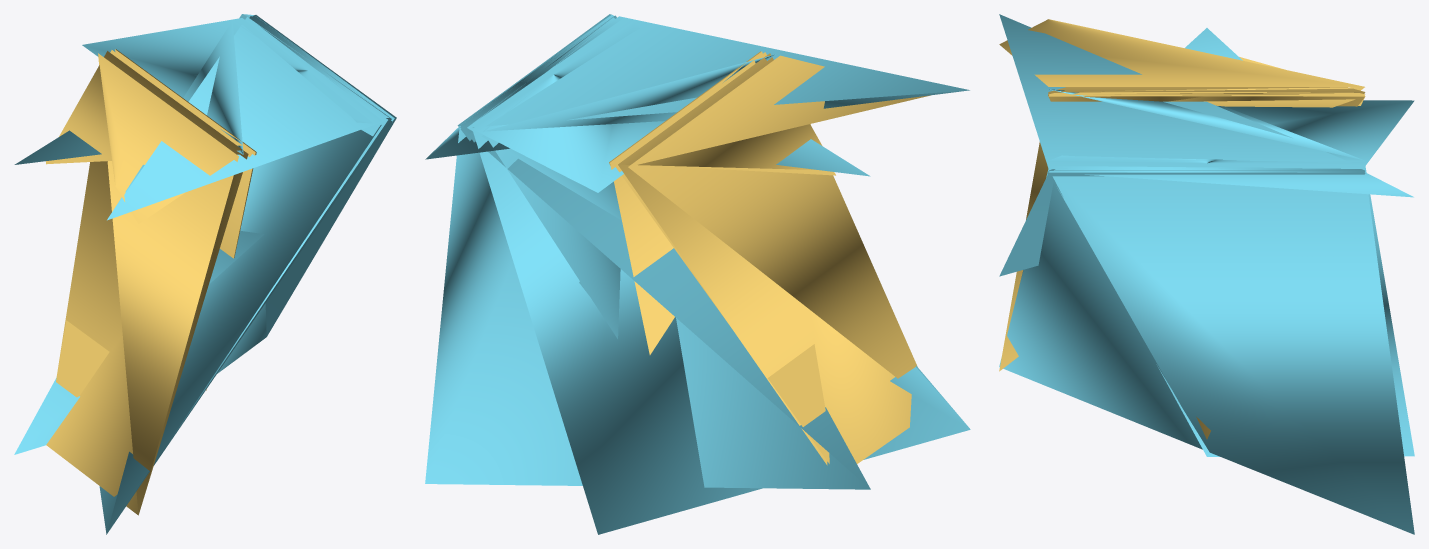
File: gear_strength.glb
The picture shows the model from 3 angles, left to right: view 1: azimuth 30°, elevation 25°; view 2: azimuth 150°, elevation 25°; view 3: azimuth 270°, elevation 25°; orthographic projection. The views are drawn at different scales.
Visible parts, largest first — view 1: SpurGearWheel, SpurGearPinion; view 2: SpurGearWheel, SpurGearPinion; view 3: SpurGearWheel, SpurGearPinion.
Boxes of the visible parts, x1,y1,x2,y2 form: SpurGearWheel: (14, 14, 396, 534); SpurGearPinion: (46, 49, 256, 515); SpurGearWheel: (425, 14, 970, 534); SpurGearPinion: (609, 51, 930, 465); SpurGearWheel: (999, 14, 1414, 534); SpurGearPinion: (999, 19, 1365, 439).
Bounding box in the file's own units: 4 × 3.9 × 4.
